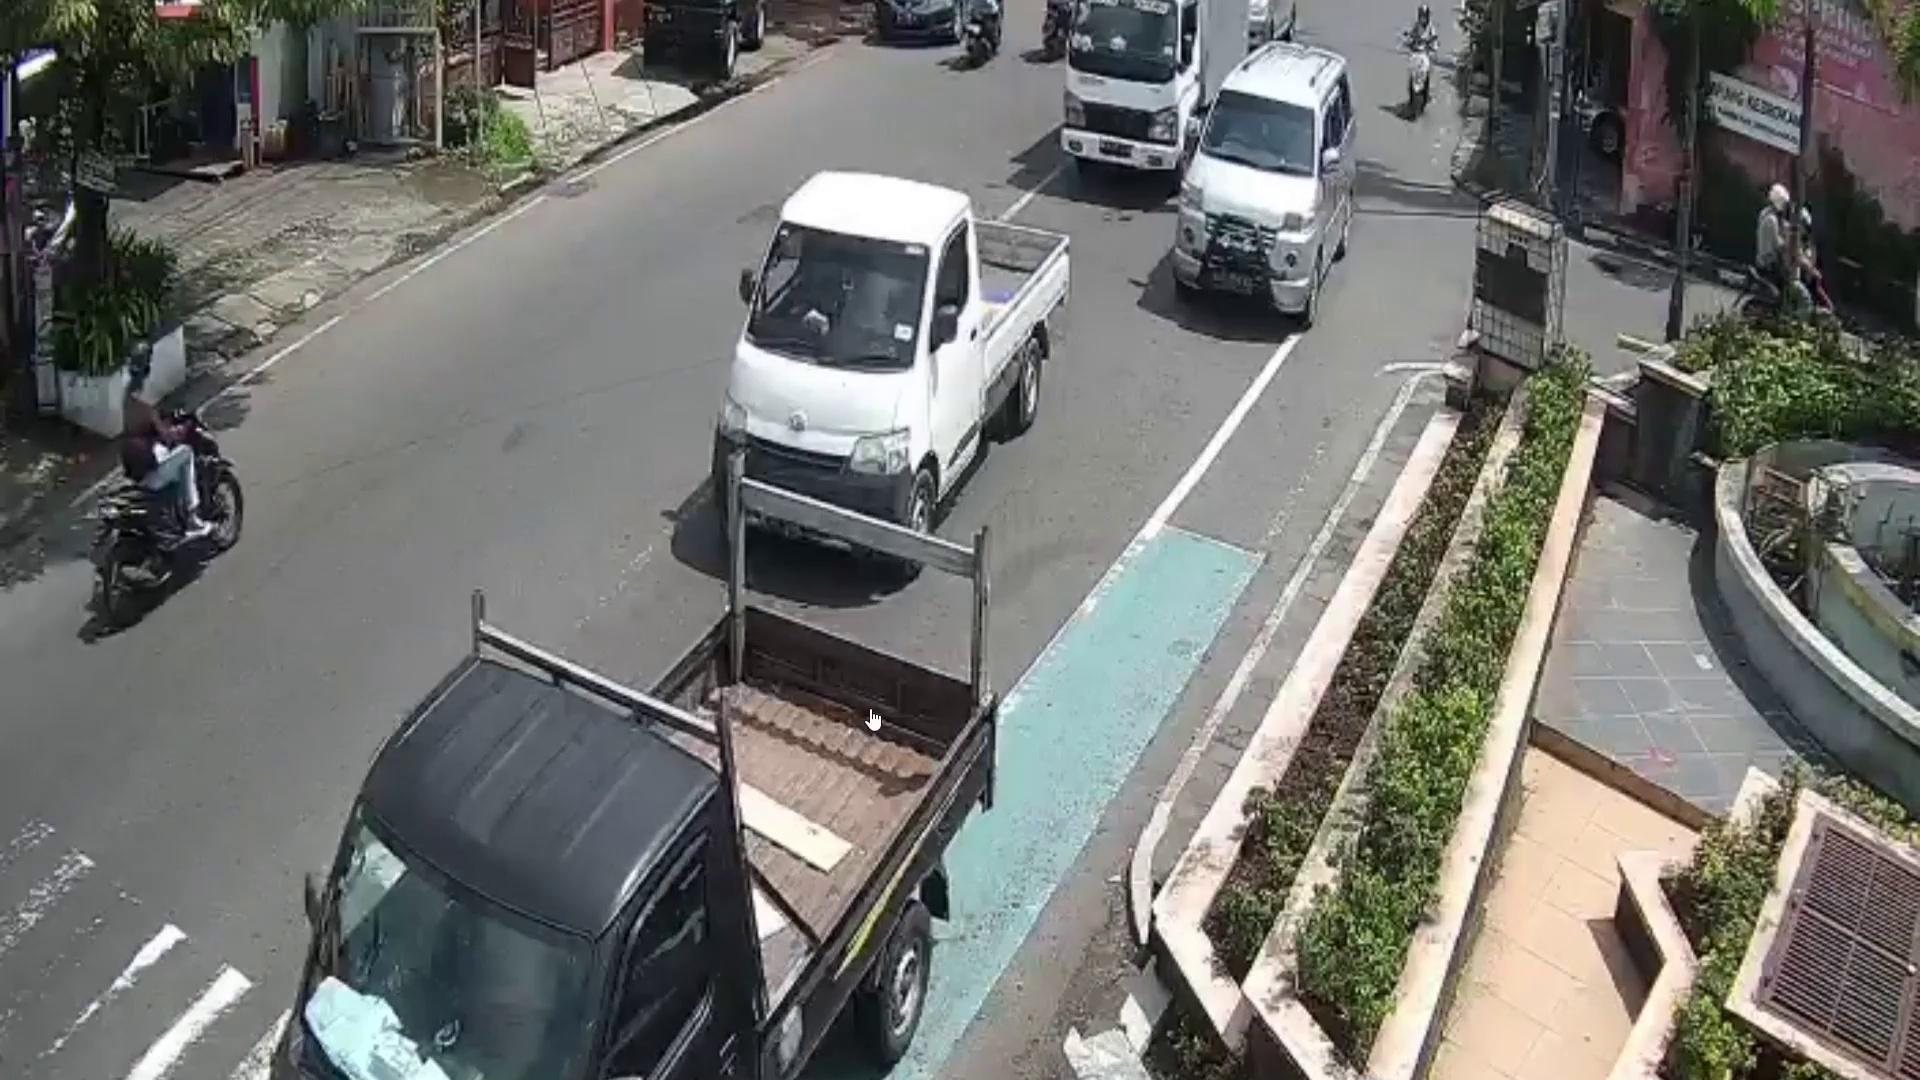car: (277, 604, 998, 1080), (716, 169, 1072, 580), (1175, 40, 1353, 328)
motorbike: (99, 406, 245, 620), (1743, 258, 1837, 334)
truck: (1063, 0, 1250, 187)
